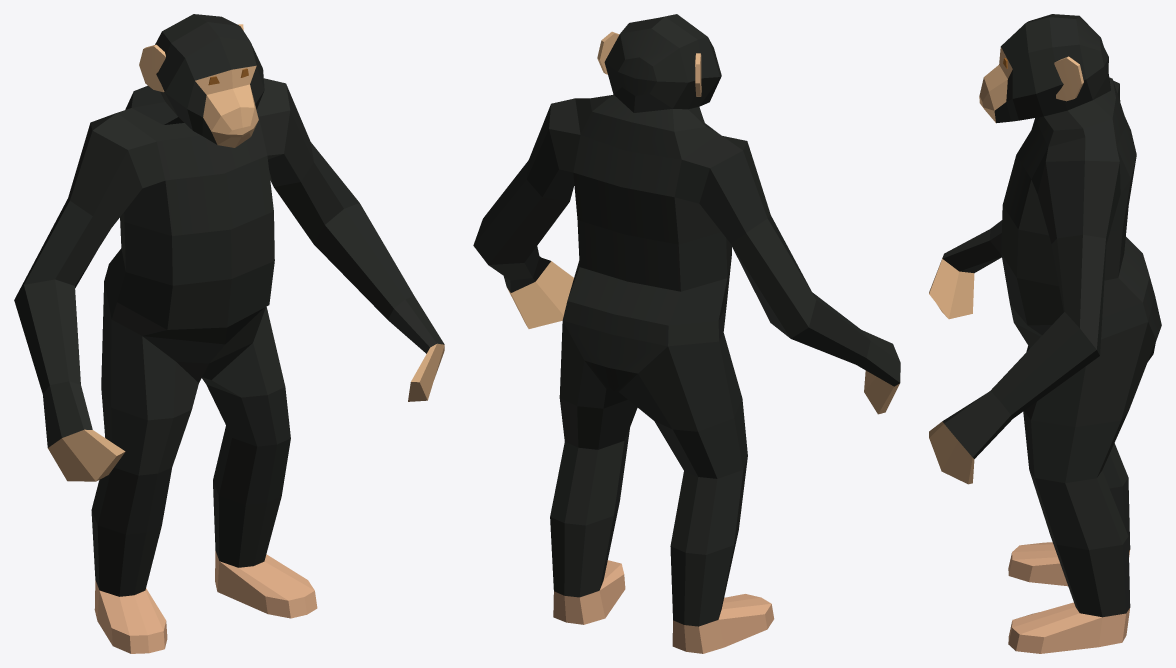
Rendered from Mesh_Chimpanzee.gltf.
3 renders of one model, left to right at view 1: azimuth 30°, elevation 25°; view 2: azimuth 150°, elevation 25°; view 3: azimuth 270°, elevation 25°, orthographic.
Visible parts, largest first — view 1: node-0; view 2: node-0; view 3: node-0.
Part boxes in pixels (bbox=[...]): node-0: bbox=[14, 14, 444, 653]; node-0: bbox=[473, 14, 900, 653]; node-0: bbox=[929, 14, 1161, 653].
Size of the model in its own units: 81.78 by 118 by 42.09.
1 material, 1 textured.
